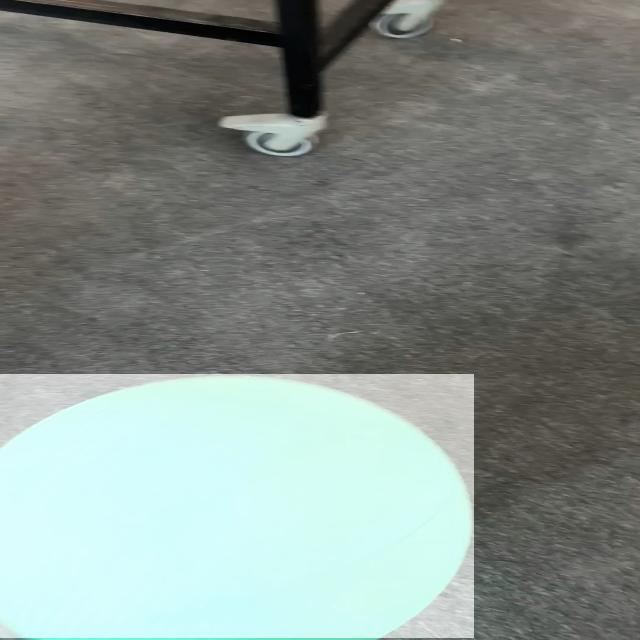Algae: (0, 374, 474, 638)
